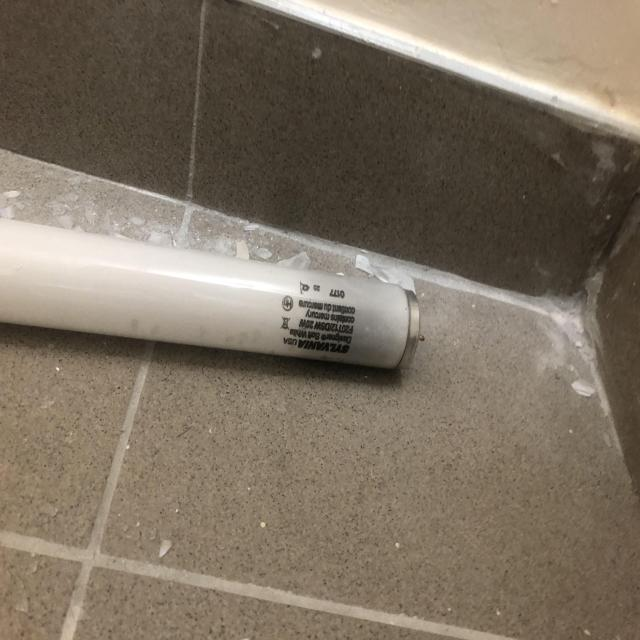bulb: (1, 205, 438, 373)
